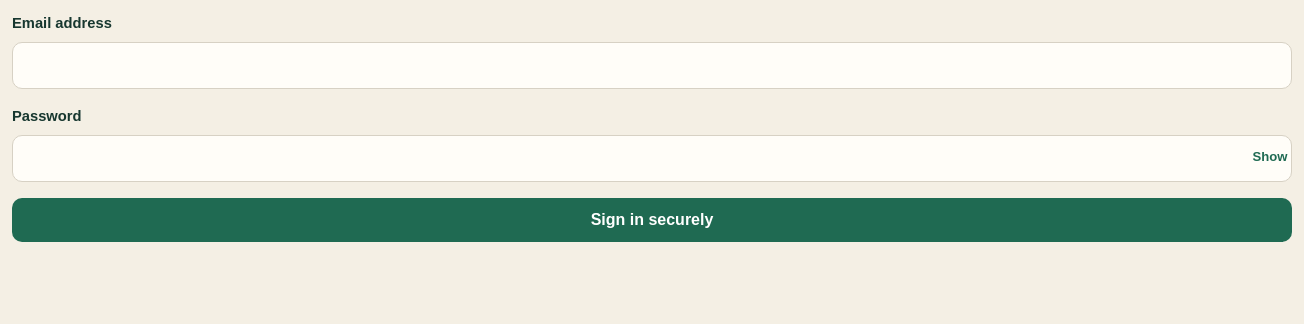
Test: shows only the safe invalid-credentials message
This screenshot has width=1304, height=324.
Type "student@example.com" into the field labelled "Email address" at (652, 66), box [12,42,1292,89]
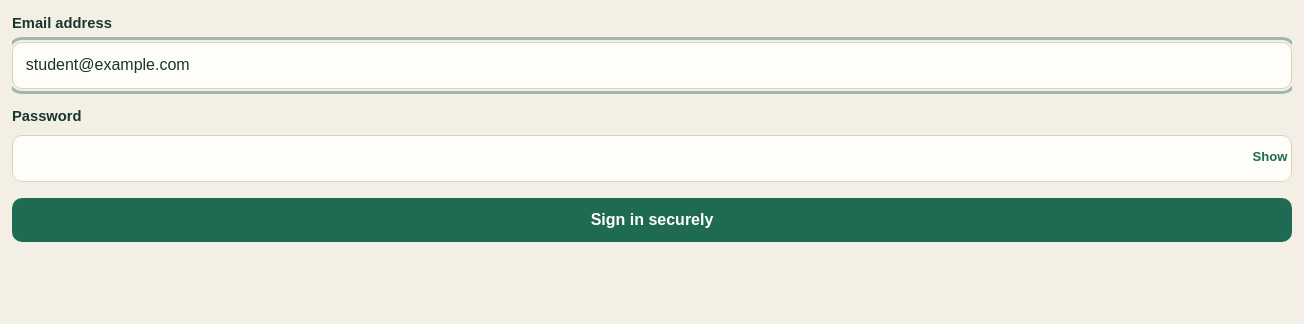
Type "secure pass" into the password field labelled "Password" at (652, 158), box [12,135,1292,182]
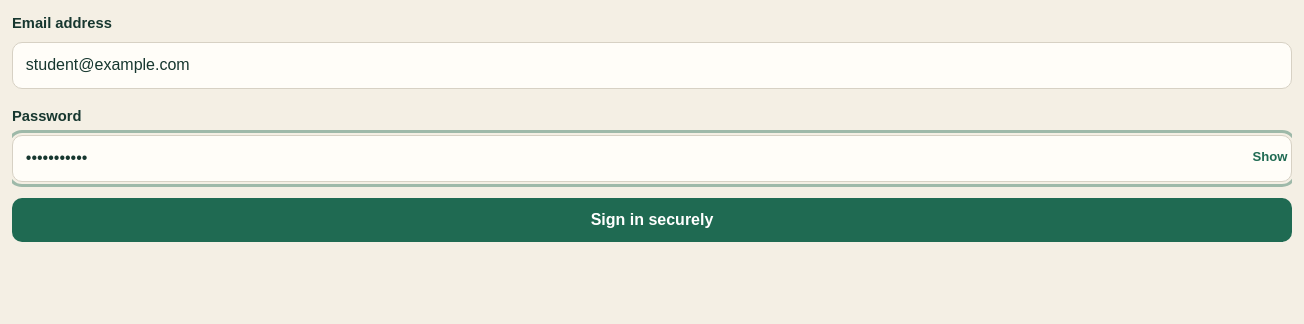
Click the button "Sign in securely" at (652, 220), box [12,198,1292,242]
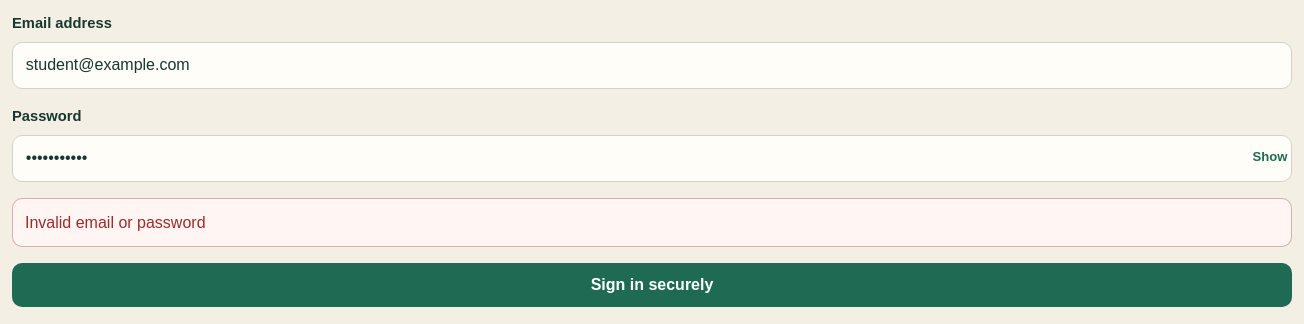
Expected: the message reads "Invalid email or password", [25,214,206,231]
